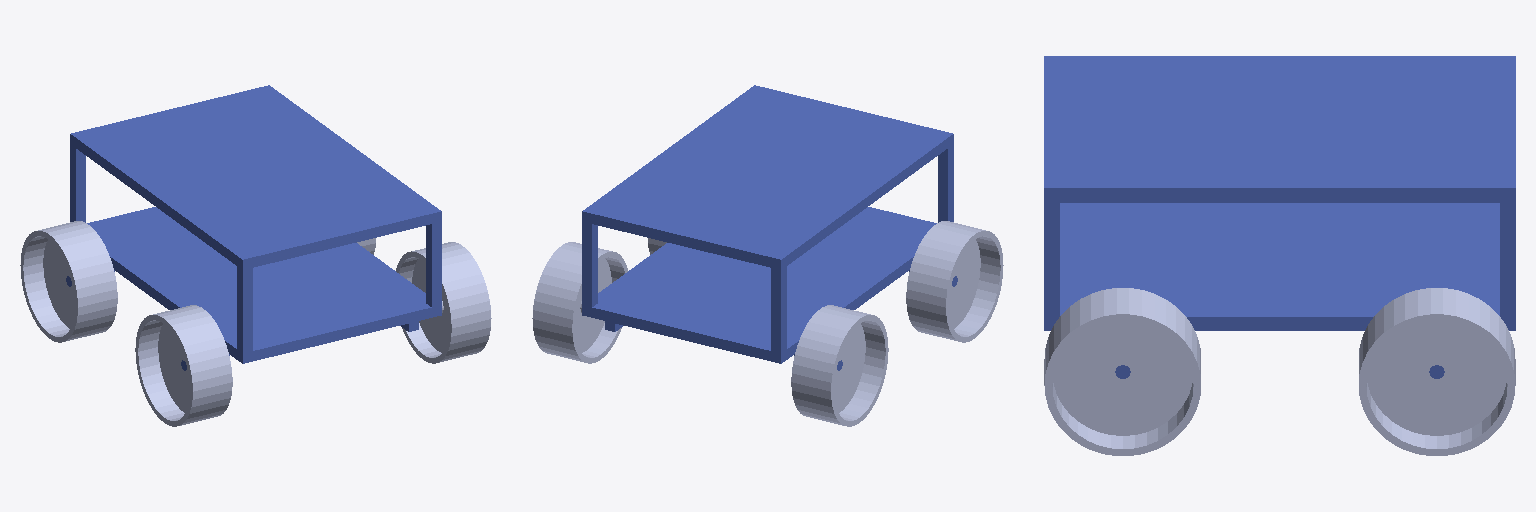
robot.urdf — my_robot_description:
<?xml version="1.0" encoding="utf-8"?>
<!-- This URDF was automatically created by SolidWorks to URDF Exporter! Originally created by [author] ([email redacted]) 
     Commit Version: 1.6.0-1-g15f4949  Build Version: 1.6.7594.29634
     For more information, please see http://wiki.ros.org/sw_urdf_exporter -->
<robot
  name="my_robot_description">
  <link
    name="base_link">
    <inertial>
      <origin
        xyz="0.1 -0.051716902185961 -0.15"
        rpy="0 0 0" />
      <mass
        value="1.26542477796077" />
      <inertia
        ixx="0.0126045884497173"
        ixy="1.29987747770946E-17"
        ixz="-2.02990122320513E-17"
        iyy="0.0146393895646815"
        iyz="9.98486082706604E-21"
        izz="0.00722763131212556" />
    </inertial>
    <visual>
      <origin
        xyz="0 0 0"
        rpy="0 0 0" />
      <geometry>
        <mesh
          filename="package://my_robot_description/meshes/base_link.STL" />
      </geometry>
      <material
        name="">
        <color
          rgba="0.380392156862745 0.47843137254902 0.788235294117647 1" />
      </material>
    </visual>
    <collision>
      <origin
        xyz="0 0 0"
        rpy="0 0 0" />
      <geometry>
        <mesh
          filename="package://my_robot_description/meshes/base_link.STL" />
      </geometry>
    </collision>
  </link>
  <link
    name="left_front_wheel_link">
    <inertial>
      <origin
        xyz="1.38777878078145E-17 -0.0281275303643725 0"
        rpy="0 0 0" />
      <mass
        value="0.0969966731795849" />
      <inertia
        ixx="9.38005213215943E-05"
        ixy="-1.12237458356287E-36"
        ixz="1.95021298162857E-36"
        iyy="0.000167618694284579"
        iyz="1.0179478791177E-20"
        izz="9.38005213215944E-05" />
    </inertial>
    <visual>
      <origin
        xyz="0 0 0"
        rpy="0 0 0" />
      <geometry>
        <mesh
          filename="package://my_robot_description/meshes/left_front_wheel_link.STL" />
      </geometry>
      <material
        name="">
        <color
          rgba="0.792156862745098 0.819607843137255 0.933333333333333 1" />
      </material>
    </visual>
    <collision>
      <origin
        xyz="0 0 0"
        rpy="0 0 0" />
      <geometry>
        <mesh
          filename="package://my_robot_description/meshes/left_front_wheel_link.STL" />
      </geometry>
    </collision>
  </link>
  <joint
    name="left_front_wheel_joint"
    type="continuous">
    <origin
      xyz="0.2 0.05 -0.115"
      rpy="1.5708 -1.5708 0" />
    <parent
      link="base_link" />
    <child
      link="left_front_wheel_link" />
    <axis
      xyz="0 1 0" />
    <limit
      effort="100"
      velocity="100" />
  </joint>
  <link
    name="right_front_wheel_link">
    <inertial>
      <origin
        xyz="-2.77555756156289E-17 -0.0281275303643725 2.77555756156289E-17"
        rpy="0 0 0" />
      <mass
        value="0.0969966731795849" />
      <inertia
        ixx="9.38005213215944E-05"
        ixy="-1.12237458356287E-36"
        ixz="1.95021298162857E-36"
        iyy="0.000167618694284579"
        iyz="4.53259247614831E-21"
        izz="9.38005213215944E-05" />
    </inertial>
    <visual>
      <origin
        xyz="0 0 0"
        rpy="0 0 0" />
      <geometry>
        <mesh
          filename="package://my_robot_description/meshes/right_front_wheel_link.STL" />
      </geometry>
      <material
        name="">
        <color
          rgba="0.792156862745098 0.819607843137255 0.933333333333333 1" />
      </material>
    </visual>
    <collision>
      <origin
        xyz="0 0 0"
        rpy="0 0 0" />
      <geometry>
        <mesh
          filename="package://my_robot_description/meshes/right_front_wheel_link.STL" />
      </geometry>
    </collision>
  </link>
  <joint
    name="right_front_wheel_joint"
    type="continuous">
    <origin
      xyz="0 0.05 -0.115"
      rpy="1.5708 1.5708 0" />
    <parent
      link="base_link" />
    <child
      link="right_front_wheel_link" />
    <axis
      xyz="0 1 0" />
    <limit
      effort="100"
      velocity="100" />
  </joint>
  <link
    name="left_back_wheel_link">
    <inertial>
      <origin
        xyz="1.38777878078145E-17 -0.0281275303643724 0"
        rpy="0 0 0" />
      <mass
        value="0.0969966731795849" />
      <inertia
        ixx="9.38005213215944E-05"
        ixy="-1.12237458356287E-36"
        ixz="1.95021298162857E-36"
        iyy="0.000167618694284579"
        iyz="1.0179478791177E-20"
        izz="9.38005213215944E-05" />
    </inertial>
    <visual>
      <origin
        xyz="0 0 0"
        rpy="0 0 0" />
      <geometry>
        <mesh
          filename="package://my_robot_description/meshes/left_back_wheel_link.STL" />
      </geometry>
      <material
        name="">
        <color
          rgba="0.792156862745098 0.819607843137255 0.933333333333333 1" />
      </material>
    </visual>
    <collision>
      <origin
        xyz="0 0 0"
        rpy="0 0 0" />
      <geometry>
        <mesh
          filename="package://my_robot_description/meshes/left_back_wheel_link.STL" />
      </geometry>
    </collision>
  </link>
  <joint
    name="left_back_wheel_joint"
    type="continuous">
    <origin
      xyz="0.2 0.25 -0.115"
      rpy="1.5708 -1.5708 0" />
    <parent
      link="base_link" />
    <child
      link="left_back_wheel_link" />
    <axis
      xyz="0 1 0" />
    <limit
      effort="100"
      velocity="100" />
  </joint>
  <link
    name="right_back_wheel_link">
    <inertial>
      <origin
        xyz="-4.16333634234434E-17 -0.0281275303643725 0"
        rpy="0 0 0" />
      <mass
        value="0.0969966731795849" />
      <inertia
        ixx="9.38005213215944E-05"
        ixy="-1.12237458356287E-36"
        ixz="1.95021298162857E-36"
        iyy="0.000167618694284579"
        iyz="4.53259247614831E-21"
        izz="9.38005213215944E-05" />
    </inertial>
    <visual>
      <origin
        xyz="0 0 0"
        rpy="0 0 0" />
      <geometry>
        <mesh
          filename="package://my_robot_description/meshes/right_back_wheel_link.STL" />
      </geometry>
      <material
        name="">
        <color
          rgba="0.792156862745098 0.819607843137255 0.933333333333333 1" />
      </material>
    </visual>
    <collision>
      <origin
        xyz="0 0 0"
        rpy="0 0 0" />
      <geometry>
        <mesh
          filename="package://my_robot_description/meshes/right_back_wheel_link.STL" />
      </geometry>
    </collision>
  </link>
  <joint
    name="right_back_wheel_joint"
    type="continuous">
    <origin
      xyz="0 0.25 -0.115"
      rpy="1.5708 1.5708 0" />
    <parent
      link="base_link" />
    <child
      link="right_back_wheel_link" />
    <axis
      xyz="0 1 0" />
    <limit
      effort="100"
      velocity="100" />
  </joint>
</robot>

--- Facts derived from the render (not from the file) ---
Views: 3 orthographic renders of the robot side by side, from view 1: azimuth 30°, elevation 25°; view 2: azimuth 150°, elevation 25°; view 3: azimuth 270°, elevation 25°.
Model my_robot_description with 5 links and 4 joints (4 continuous), rooted at base_link, posed every joint at zero.
Links seen in each view (by area): view 1: base_link, right_front_wheel_link, right_back_wheel_link, left_front_wheel_link; view 2: base_link, right_back_wheel_link, right_front_wheel_link, left_back_wheel_link; view 3: base_link, left_front_wheel_link, left_back_wheel_link.
Link boxes in pixels (x1,y1,x2,y2): base_link: (66, 85, 441, 370); right_front_wheel_link: (135, 305, 232, 426); right_back_wheel_link: (20, 221, 117, 342); left_front_wheel_link: (396, 242, 491, 363); base_link: (582, 85, 957, 370); right_back_wheel_link: (791, 305, 888, 426); right_front_wheel_link: (906, 221, 1003, 342); left_back_wheel_link: (532, 242, 627, 363); base_link: (1044, 56, 1515, 378); left_front_wheel_link: (1044, 288, 1200, 455); left_back_wheel_link: (1359, 288, 1515, 455).
Size in the robot's own frame: 0.3 by 0.3 by 0.1648 metres.
5 mesh visuals loaded from 5 distinct referenced files (5 binary STL).